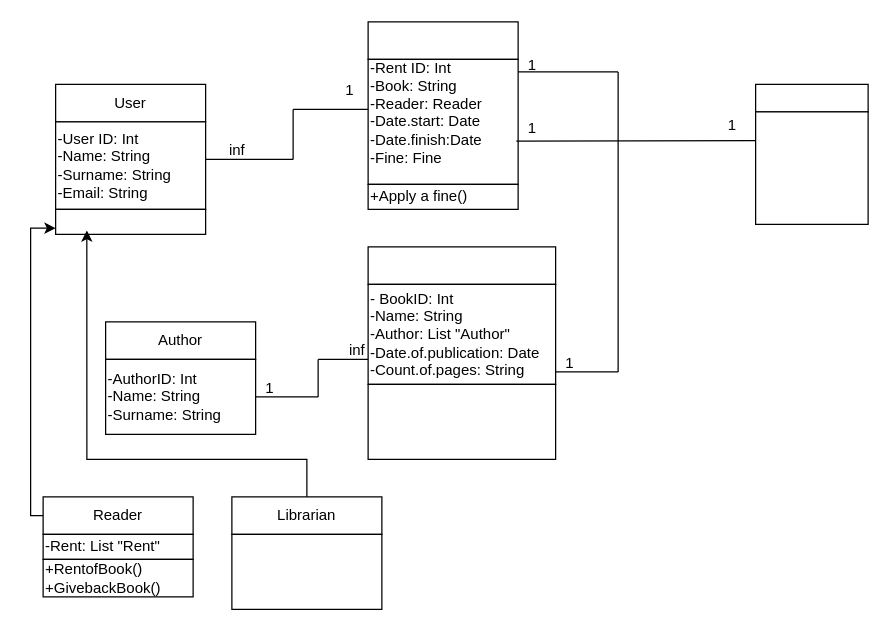
This 890x631 diagram has some shape labels left out. The centre of each missing label's shape, as x and y in pixels:
+AddBook() +BookDelete() +UpdateINF(): the point at 306,571
+AddBook() +DeleteBook() +UpdateINFO(): the point at 461,421
-FineID: int -Date: date -Cost: Double -Status: Boolean: the point at 811,167
Book: the point at 461,265
Fine: the point at 811,97
Rent: the point at 442,40
